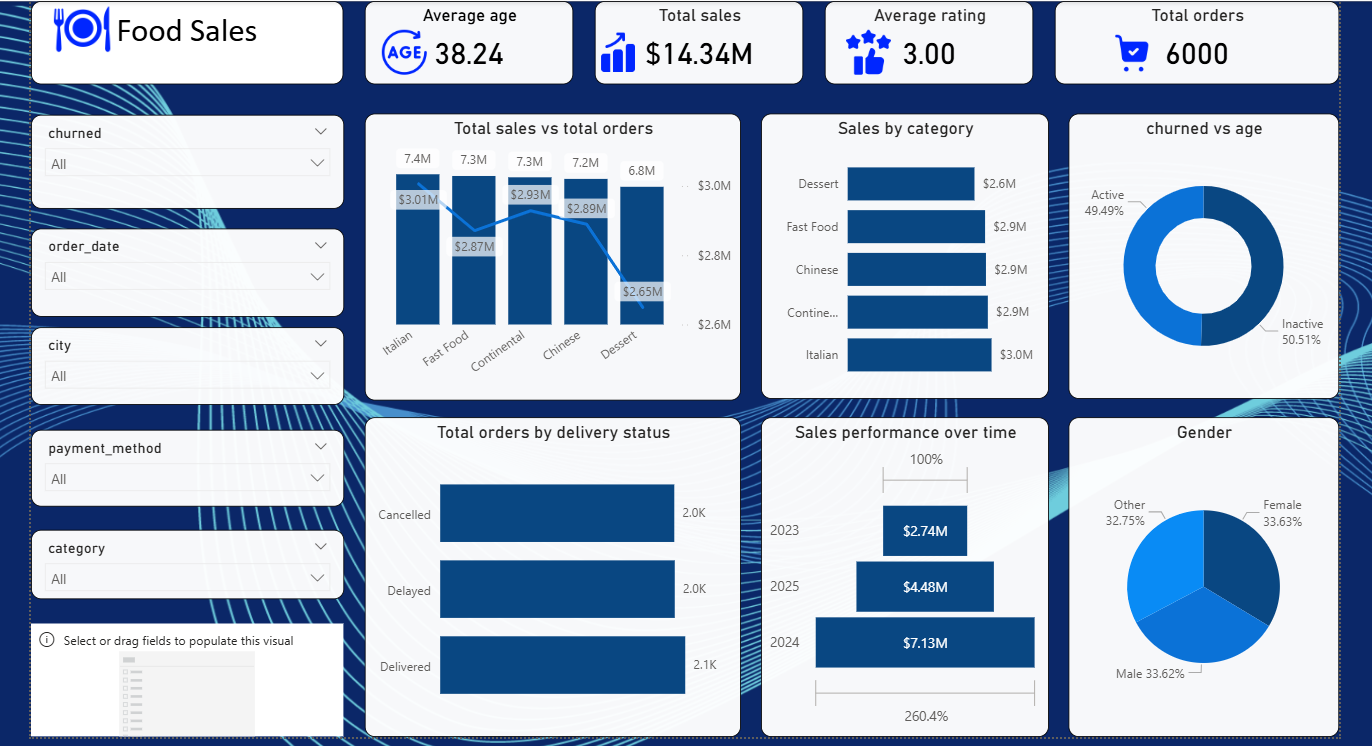

What the dashboard file says about the page in this screenshot:
{"tool":"powerbi","page":{"name":"Page 1","canvas":[1280,720],"ordinal":0},"visuals":[{"type":"funnel","title":"Sales performance over time","fields":{"Category":["Foodpanda Analysis Dataset.order_date.Variation.Date Hierarchy.Year"],"Y":["Sum(Foodpanda Analysis Dataset.total sales)"]},"box":[713.8,407.4,281.8,312.6],"z":0},{"type":"lineStackedColumnComboChart","title":"Total  sales vs total orders","fields":{"Category":["Foodpanda Analysis Dataset.category"],"Y":["Sum(food.Total order)"],"Y2":["Sum(Foodpanda Analysis Dataset.total sales)"]},"box":[326.2,109.5,368,280.6],"z":1000},{"type":"pieChart","title":"Gender","fields":{"Category":["Foodpanda Analysis Dataset.gender"],"Y":["CountNonNull(Foodpanda Analysis Dataset.customer_id)"]},"box":[1015.4,407.4,264.6,312.6],"z":2000},{"type":"barChart","title":"Sales  by category","fields":{"Category":["Foodpanda Analysis Dataset.category"],"Y":["Sum(food.total sales)"]},"box":[713.8,109.5,281.8,279.4],"z":3000},{"type":"barChart","title":"Total orders by delivery status","fields":{"Category":["Foodpanda Analysis Dataset.delivery_status"],"Y":["CountNonNull(Foodpanda Analysis Dataset.Total order)"]},"box":[326.2,407.4,368,312.6],"z":4000},{"type":"card","title":"Total sales","fields":{"Values":["Sum(Foodpanda Analysis Dataset.total sales)"]},"box":[551.4,0,204.3,81.2],"z":5000},{"type":"card","title":"Total orders","fields":{"Values":["CountNonNull(Foodpanda Analysis Dataset.order_id)"]},"box":[1001.8,0,278.2,81.2],"z":6000},{"type":"card","title":"Average rating","fields":{"Values":["Avg(Foodpanda Analysis Dataset.rating)"]},"box":[776.6,0,204.3,81.2],"z":7000},{"type":"card","title":"Average age","fields":{"Values":["Avg(Foodpanda Analysis Dataset.age)"]},"box":[326.2,0,204.3,81.2],"z":8000},{"type":"textbox","title":"hhhh","box":[0,0,305.2,81.2],"z":9000},{"type":"donutChart","title":" churned vs age","fields":{"Category":["Foodpanda Analysis Dataset.churned"],"Y":["Avg(food.age)"]},"box":[1015.4,109.5,264.6,279.4],"z":10000},{"type":"slicer","fields":{"Values":["Foodpanda Analysis Dataset.city"]},"box":[0,319.1,306.5,76.3],"z":11000},{"type":"slicer","fields":{"Values":["Foodpanda Analysis Dataset.category"]},"box":[0,517.2,306.5,67.7],"z":12000},{"type":"slicer","title":"Order","fields":{"Values":["Foodpanda Analysis Dataset.order_date"]},"box":[0,223.1,306.5,86.2],"z":13000},{"type":"image","box":[551.4,28.3,45.5,44.3],"z":14000},{"type":"image","box":[342.2,28.3,45.5,44.3],"z":15000},{"type":"image","box":[797.5,28.3,44.3,44.3],"z":16000},{"type":"image","box":[1054.8,28.3,43.1,44.3],"z":17000},{"type":"image","box":[20.9,0,57.8,55.4],"z":18000},{"type":"slicer","fields":{"Values":["Foodpanda Analysis Dataset.churned"]},"box":[0,111.1,306.5,92.3],"z":19000},{"type":"slicer","fields":{"Values":["Foodpanda Analysis Dataset.payment_method"]},"box":[0,420,306.5,75.1],"z":20000},{"type":"slicer","box":[0,609.2,305.2,110.8],"z":20001}]}

Visuals, with their boxes in screenshot pixels (x1, y1, x2, y2):
"Sales performance over time" funnel: 759 417 1047 736
"Total  sales vs total orders" lineStackedColumnComboChart: 362 112 739 399
"Gender" pieChart: 1067 417 1338 736
"Sales  by category" barChart: 759 112 1047 398
"Total orders by delivery status" barChart: 362 417 739 736
"Total sales" card: 593 0 802 83
"Total orders" card: 1053 0 1338 83
"Average rating" card: 823 0 1032 83
"Average age" card: 362 0 571 83
"hhhh" textbox: 29 0 341 83
" churned vs age" donutChart: 1067 112 1338 398
slicer - Foodpanda Analysis Dataset.city: 29 326 342 404
slicer - Foodpanda Analysis Dataset.category: 29 529 342 598
"Order" slicer: 29 228 342 316
image: 593 29 639 74
image: 379 29 425 74
image: 844 29 890 74
image: 1107 29 1152 74
image: 50 0 109 57
slicer - Foodpanda Analysis Dataset.churned: 29 114 342 208
slicer - Foodpanda Analysis Dataset.payment_method: 29 430 342 506
slicer: 29 623 341 736
